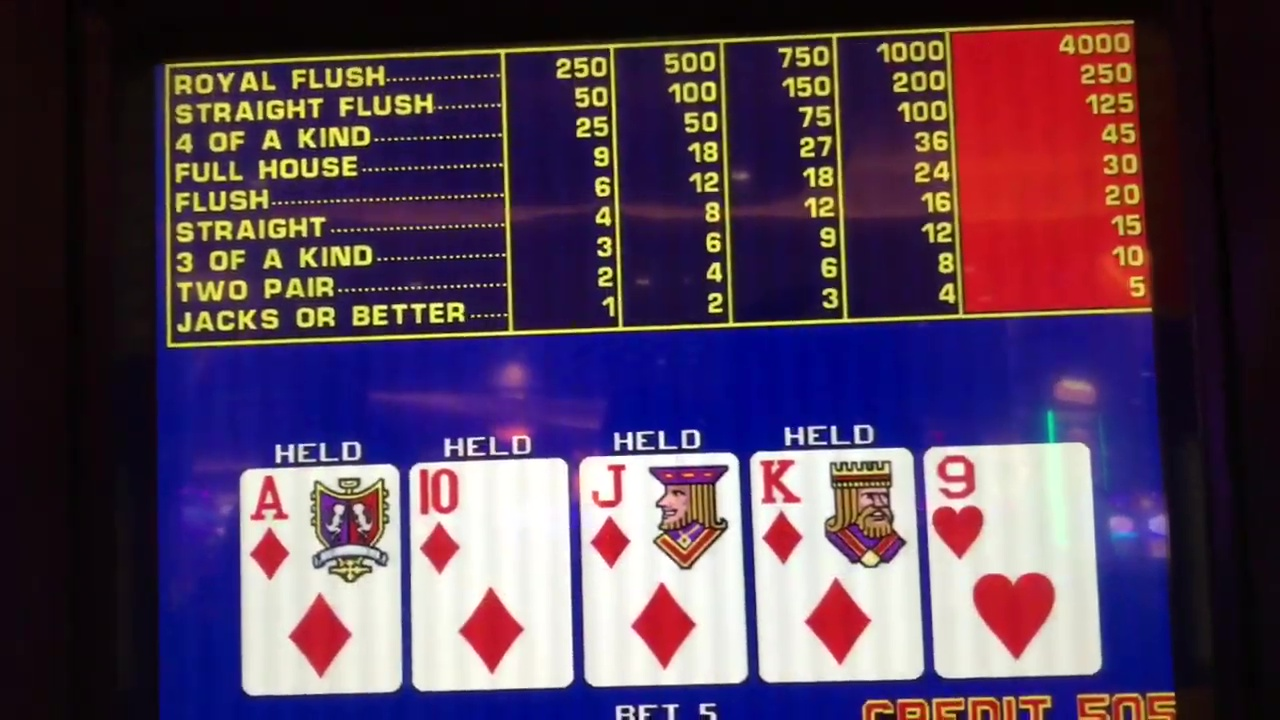DA: (252, 468, 396, 590)
DJ: (585, 457, 742, 579)
DK: (758, 452, 917, 574)
DT: (414, 464, 565, 585)
H9: (936, 445, 1092, 571)
